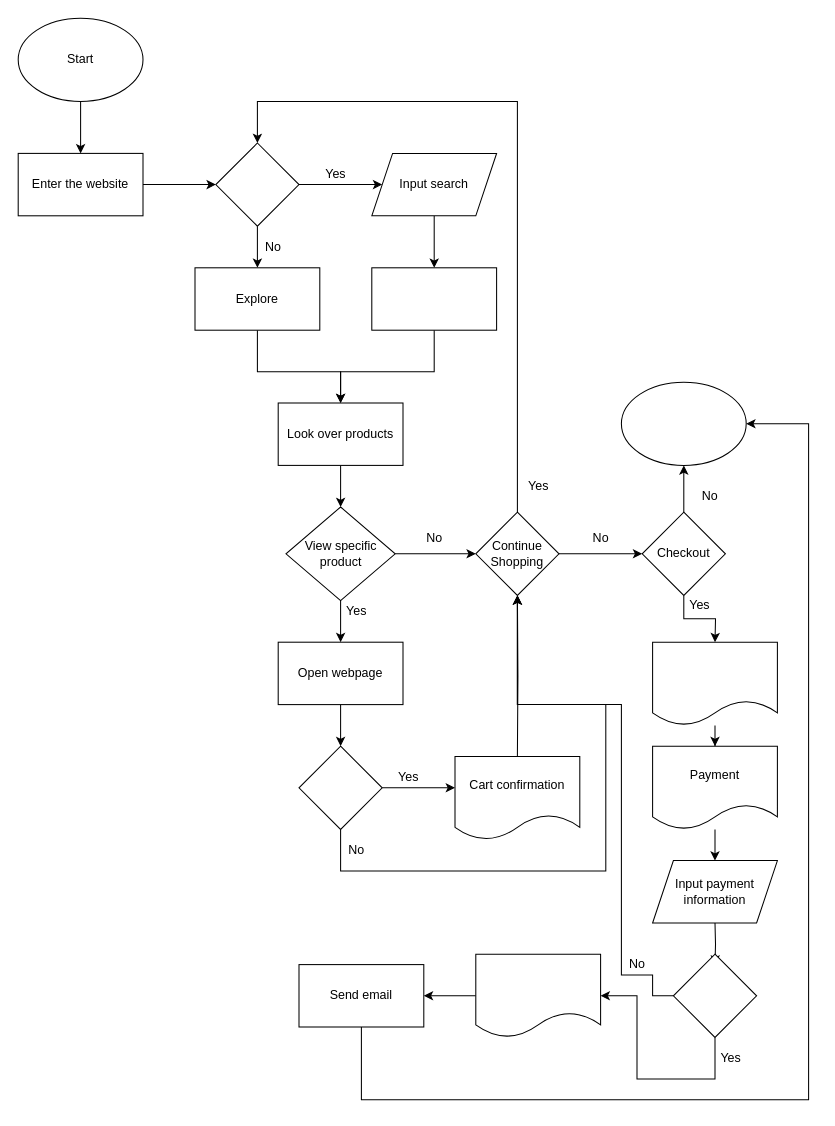
This 835x1126 diagram has some shape labels left out. The centre of each missing label's shape, as x and y in pixels:
"Add to cart" belongs at (x=340, y=787).
"Cart" belongs at (x=714, y=683).
"Leave the website" belongs at (x=683, y=423).
"Order confirmation" belongs at (x=538, y=995).
"Pay" belongs at (x=714, y=995).
"Search" belongs at (x=257, y=184).
"Search for product" belongs at (x=434, y=298).
